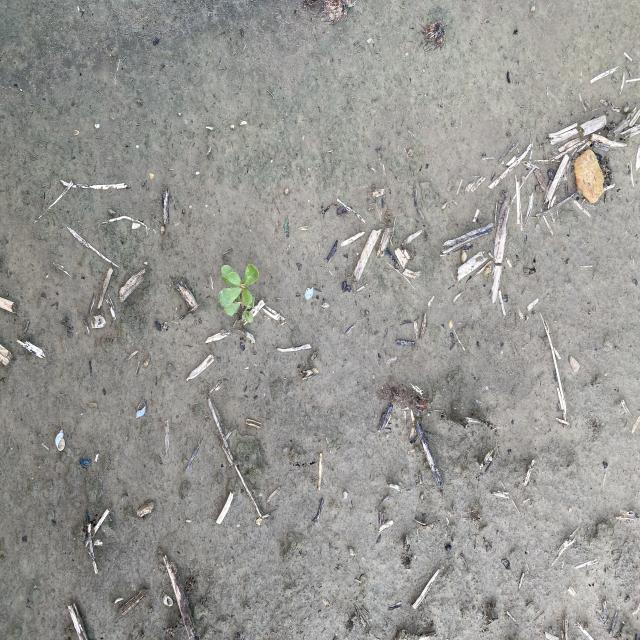Purslane: (216, 263, 261, 327)
